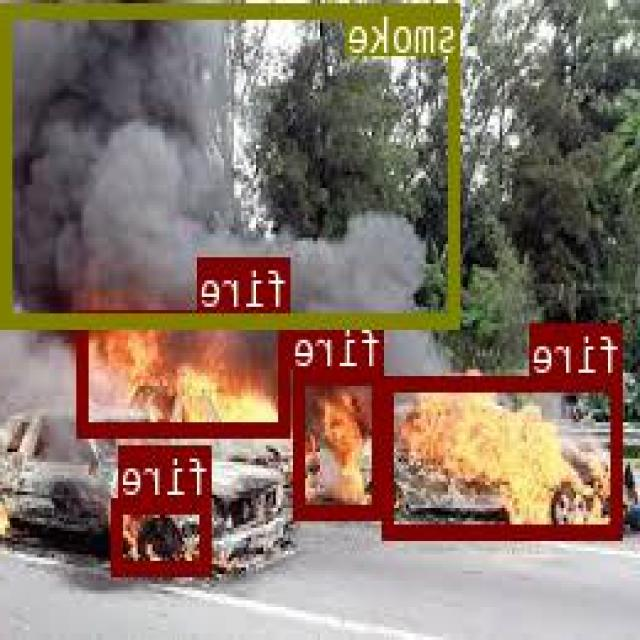fire: (386, 373, 624, 535), (80, 308, 292, 435), (296, 368, 384, 516), (114, 498, 212, 573)
smoke: (5, 2, 462, 324)
